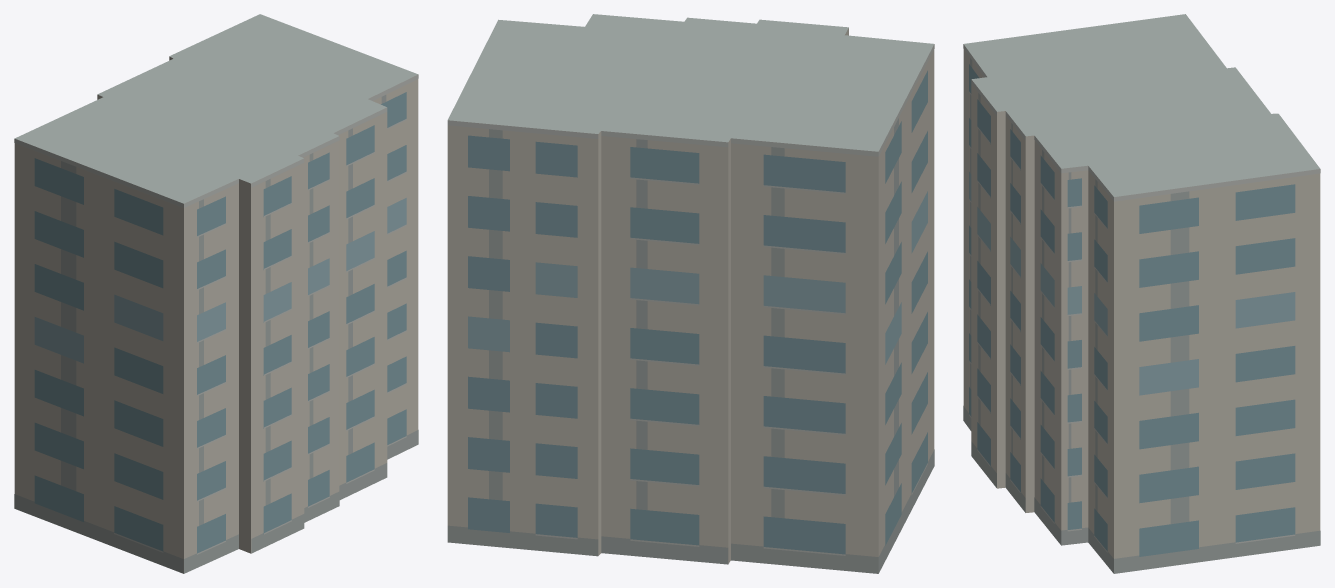
Rendered from survey-upis-32719716.glb.
The picture shows the model from 3 angles, left to right: view 1: azimuth 30°, elevation 25°; view 2: azimuth 150°, elevation 25°; view 3: azimuth 270°, elevation 25°; orthographic projection. The views are drawn at different scales.
Parts seen in each view (by area): view 1: survey-upis-32719716.tmp; view 2: survey-upis-32719716.tmp; view 3: survey-upis-32719716.tmp.
Boxes of the visible parts, <box> form: survey-upis-32719716.tmp: <box>14,14,418,573</box>; survey-upis-32719716.tmp: <box>447,14,934,573</box>; survey-upis-32719716.tmp: <box>963,14,1320,573</box>.
Bounding box in the file's own units: 21.27 × 20.4 × 17.53.
